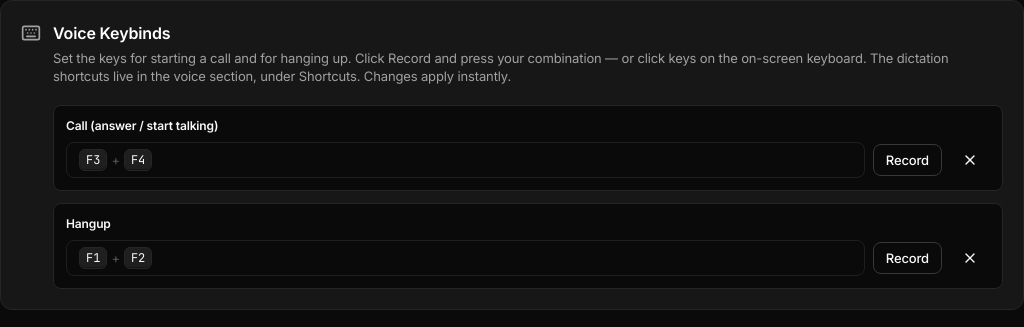
Test case: KeybindsPanel — Clear button › shows 'No key assigned' after a successful clear
Click the button with test id "clear-keybind-hangup" at (970, 258), box x1=950 y1=242 x2=990 y2=274
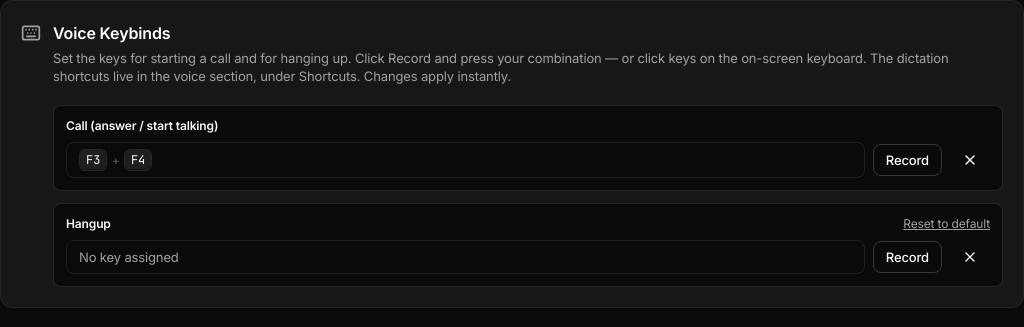
Check: the text "No key assigned" is shown, box x1=79 y1=248 x2=179 y2=266
